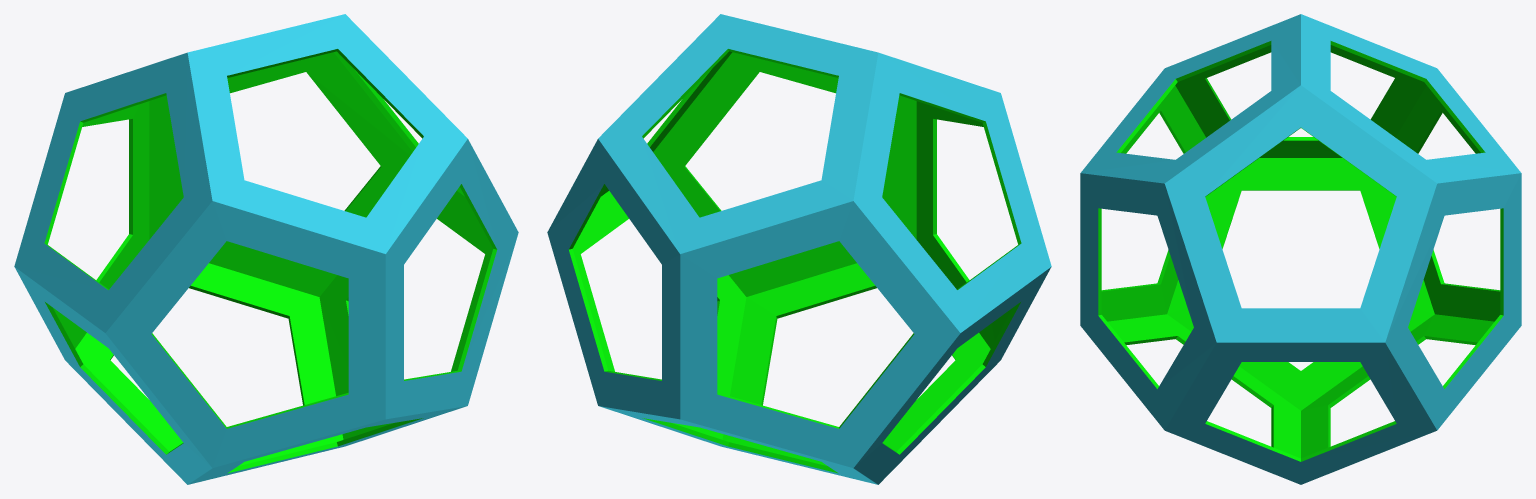
File: DodecahedronS1.glb
The picture shows the model from 3 angles, left to right: view 1: azimuth 30°, elevation 25°; view 2: azimuth 150°, elevation 25°; view 3: azimuth 270°, elevation 25°; orthographic projection. The views are drawn at different scales.
Parts seen in each view (by area): view 1: Mesh_0009_1, Mesh_0009; view 2: Mesh_0009_1, Mesh_0009; view 3: Mesh_0009_1, Mesh_0009.
Part boxes in pixels (x1,y1,x2,y2): Mesh_0009_1: (14,14,518,484); Mesh_0009: (44,49,497,473); Mesh_0009_1: (547,14,1051,484); Mesh_0009: (568,49,1021,473); Mesh_0009_1: (1080,14,1521,484); Mesh_0009: (1098,41,1503,461).
Size of the model in its own units: 2.64 by 2.64 by 2.64.
